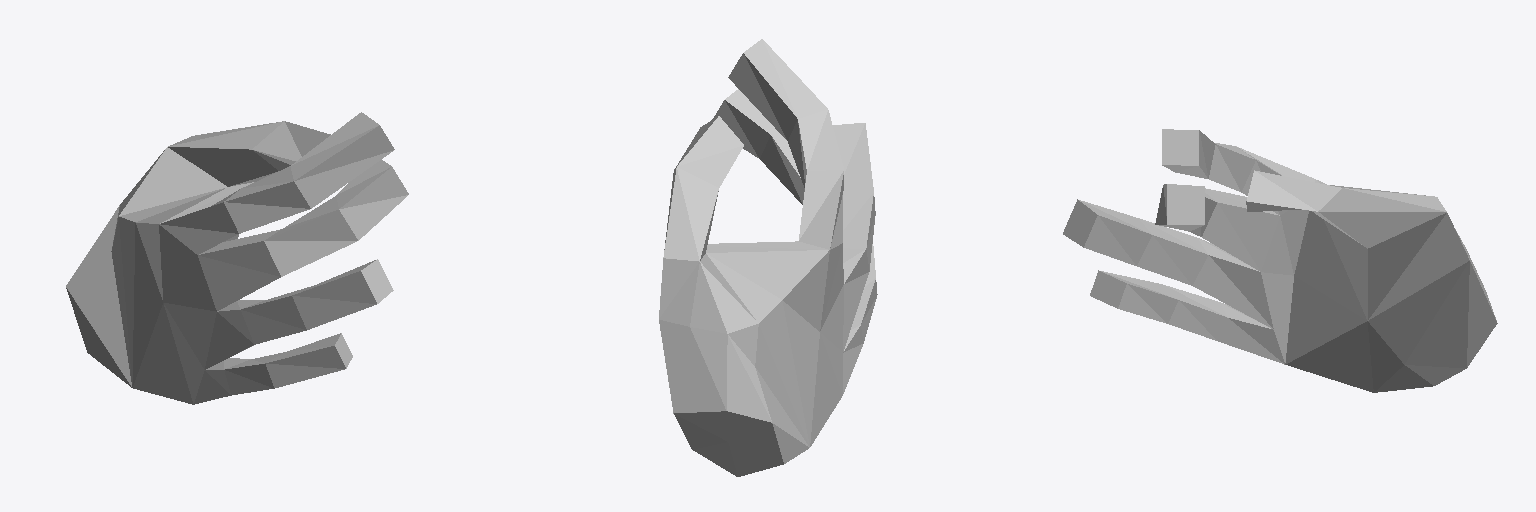
File: RecorderHandRight4.obj
3 renders of one model, left to right at view 1: azimuth 30°, elevation 25°; view 2: azimuth 150°, elevation 25°; view 3: azimuth 270°, elevation 25°, orthographic.
Visible parts, largest first — view 1: Converted object 0; view 2: Converted object 0; view 3: Converted object 0.
Boxes of the visible parts, <box> form: Converted object 0: <box>66,112,408,404</box>; Converted object 0: <box>659,39,877,476</box>; Converted object 0: <box>1063,129,1497,392</box>.
Size of the model in its own units: 3.18 by 4.94 by 6.15.